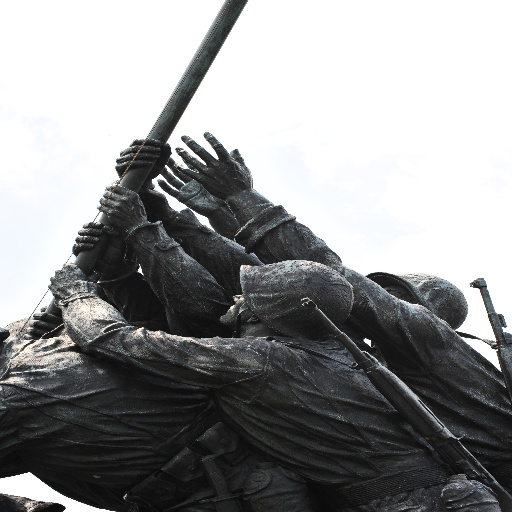hand: (172, 128, 448, 352), (156, 156, 225, 216), (68, 219, 127, 276), (94, 180, 143, 238), (114, 135, 172, 184), (43, 258, 99, 302), (110, 178, 172, 217), (19, 304, 62, 341)
